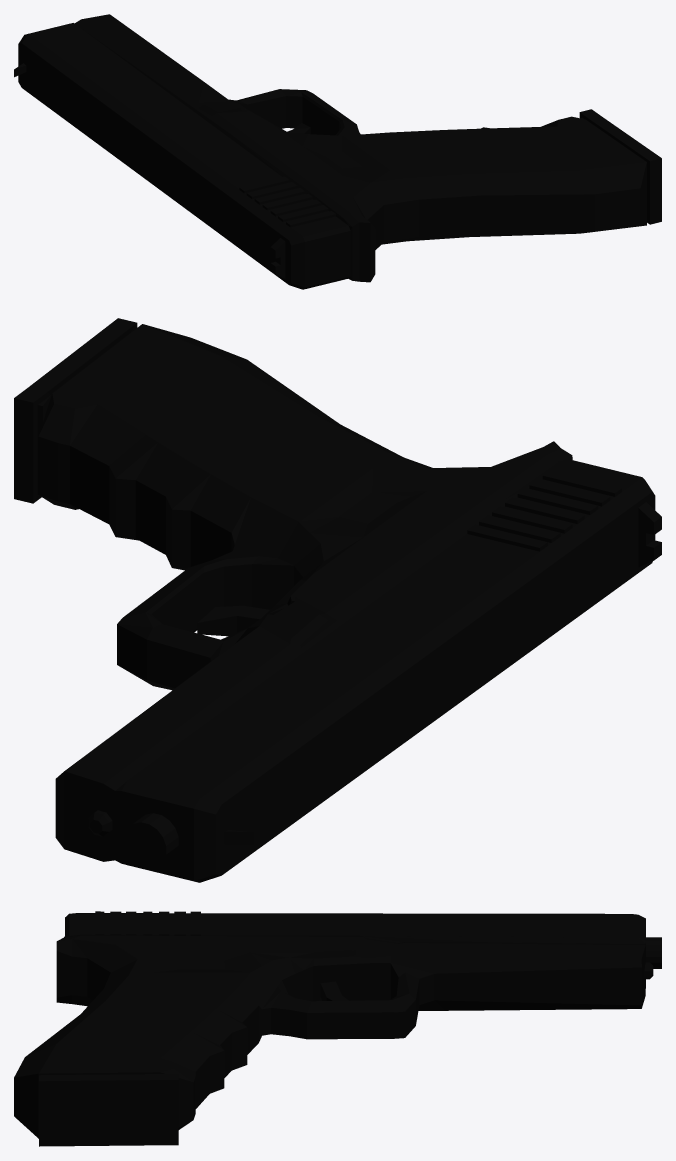
Rendered from Glock.glb.
The picture shows the model from 3 angles, top to bottom: view 1: azimuth 30°, elevation 25°; view 2: azimuth 150°, elevation 25°; view 3: azimuth 270°, elevation 25°; orthographic projection. The views are drawn at different scales.
Parts seen in each view (by area): view 1: Glock; view 2: Glock; view 3: Glock.
Part boxes in pixels (x1=…): Glock: x1=14, y1=14, x2=661, y2=289; Glock: x1=14, y1=318, x2=661, y2=882; Glock: x1=14, y1=911, x2=661, y2=1146.
Size of the model in its own units: 0.2886 by 0.0477 by 0.4295.
1 material, 1 textured.
